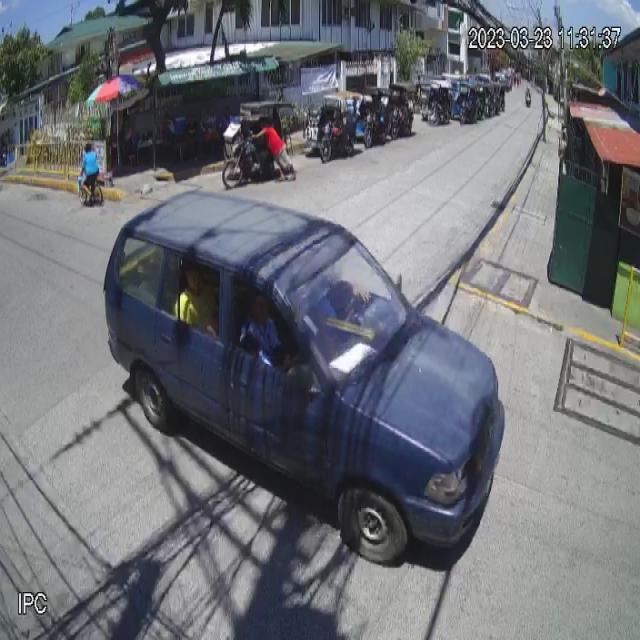Car: (101, 186, 506, 567)
